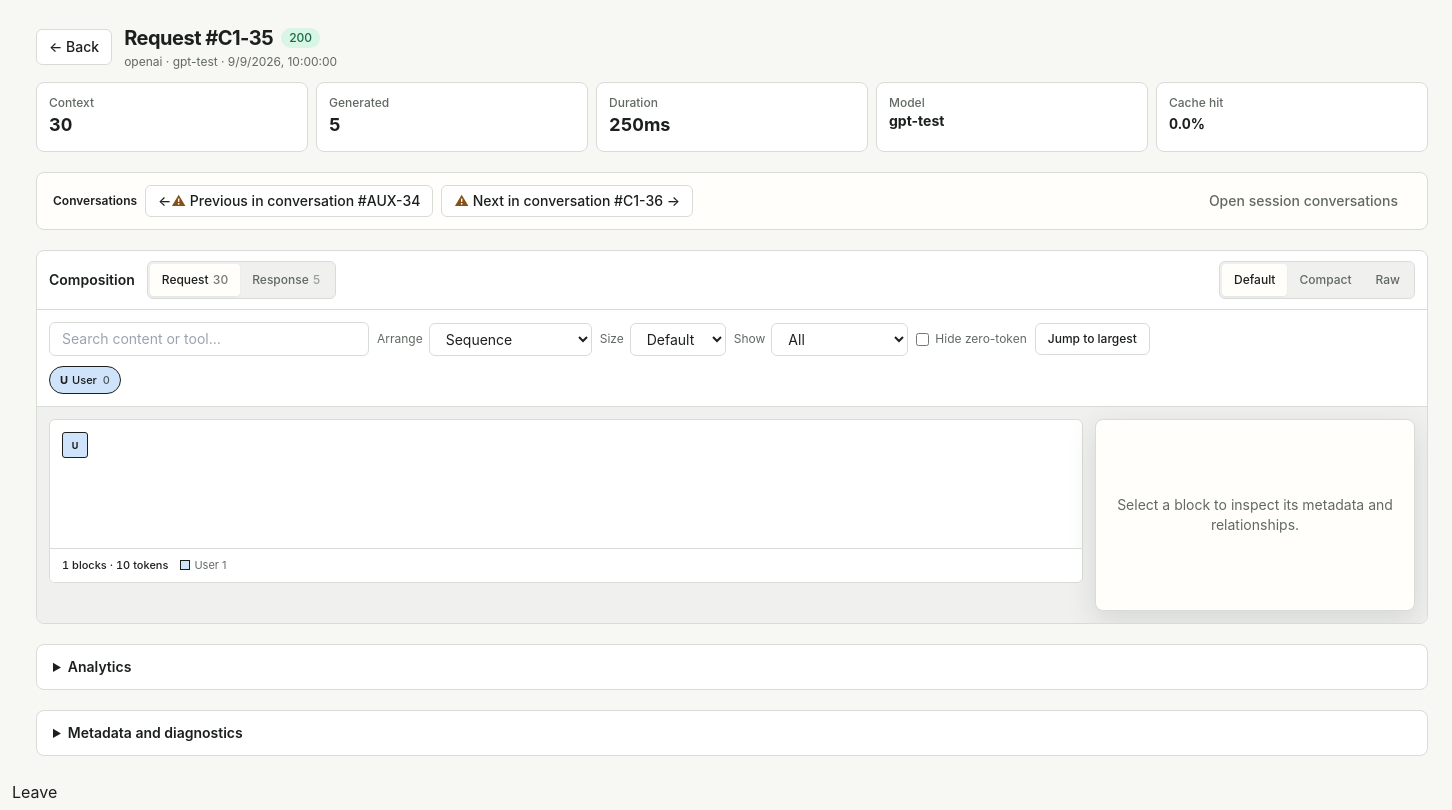
Test case: RequestDetail Show mode lifetime › falls back to the previous/next request in the conversation when no direct link exists
Check: the heading "Request #C1-35" is shown, box [124,24,273,52]
Check: the button "← Parent" is not shown
Click the button "← ⚠ Previous in conversation #AUX-34" at [289, 201], box [145,185,433,217]
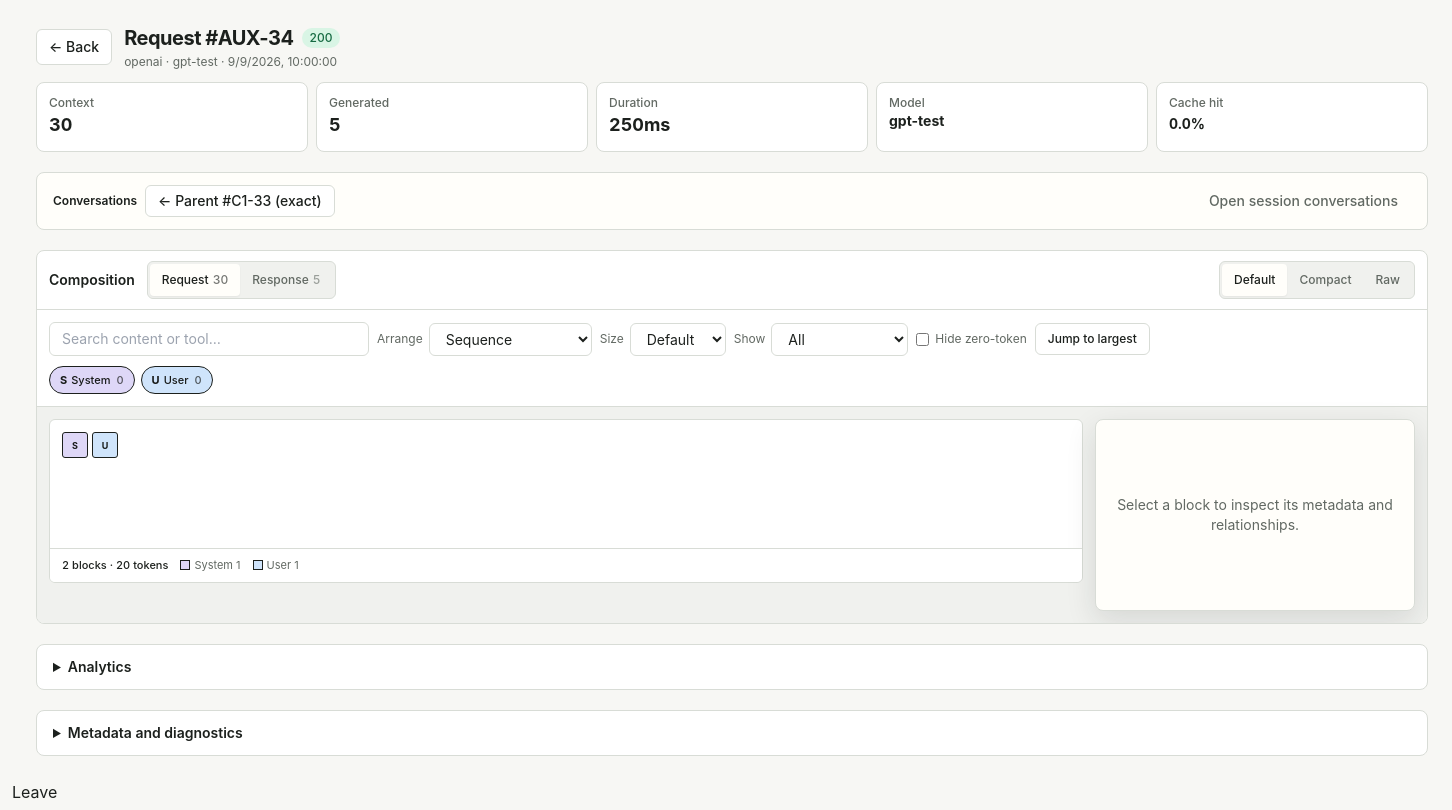
Check: the heading "Request #AUX-34" is shown, box [124,24,294,52]
